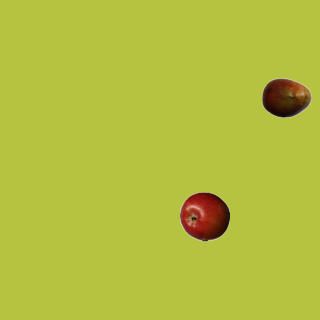Apple Braeburn: (179, 191, 229, 241)
Mango Red: (261, 72, 311, 122)
